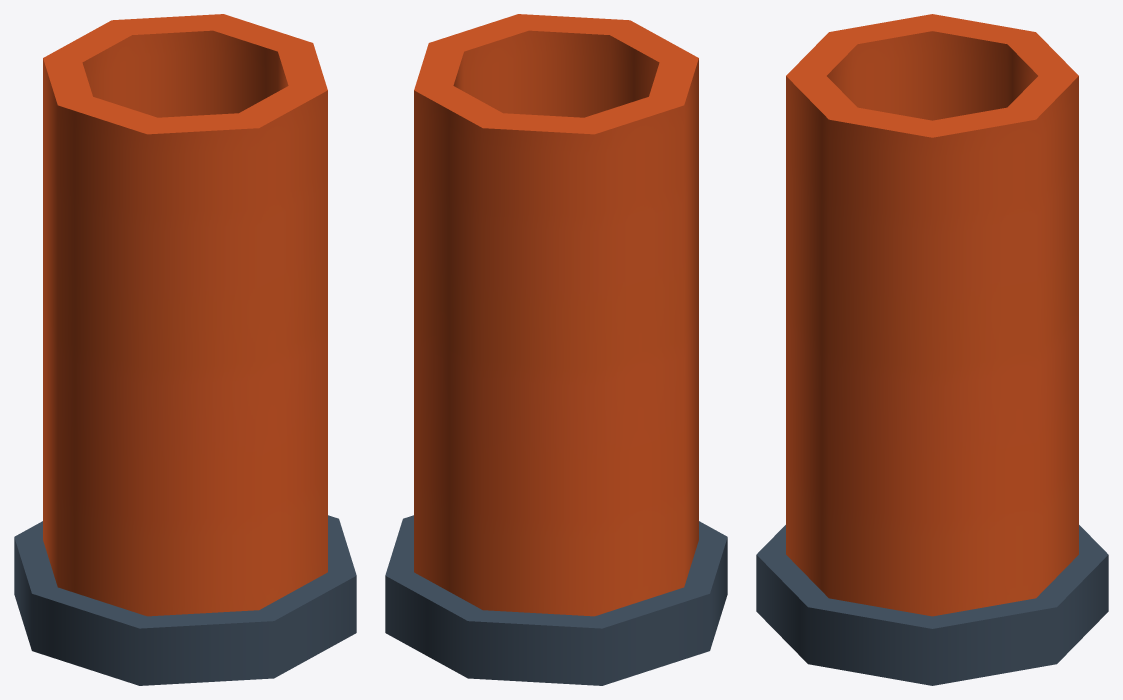
Rendered from Chimney_1_A_2.fbx.
3 renders of one model, left to right at view 1: azimuth 30°, elevation 25°; view 2: azimuth 150°, elevation 25°; view 3: azimuth 270°, elevation 25°, orthographic.
Parts seen in each view (by area): view 1: Chimney_1_A_2; view 2: Chimney_1_A_2; view 3: Chimney_1_A_2.
Part boxes in pixels (left/top/right/bottom): Chimney_1_A_2: left=14, top=14, right=356, bottom=685; Chimney_1_A_2: left=385, top=14, right=727, bottom=685; Chimney_1_A_2: left=756, top=14, right=1108, bottom=685.
Bounding box in the file's own units: 61.78 × 104 × 61.78.
